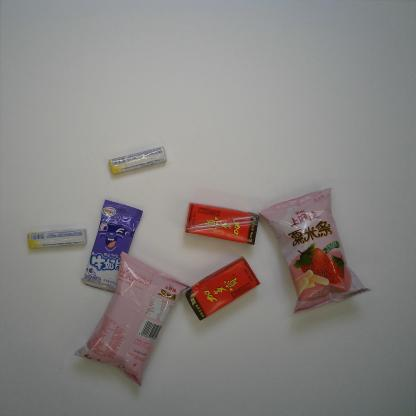Candy: (81, 197, 145, 294), (108, 146, 167, 177), (26, 226, 86, 251)
Drink: (183, 254, 260, 320), (183, 202, 263, 246)
Puffed Food: (72, 250, 191, 389), (259, 185, 371, 314)
